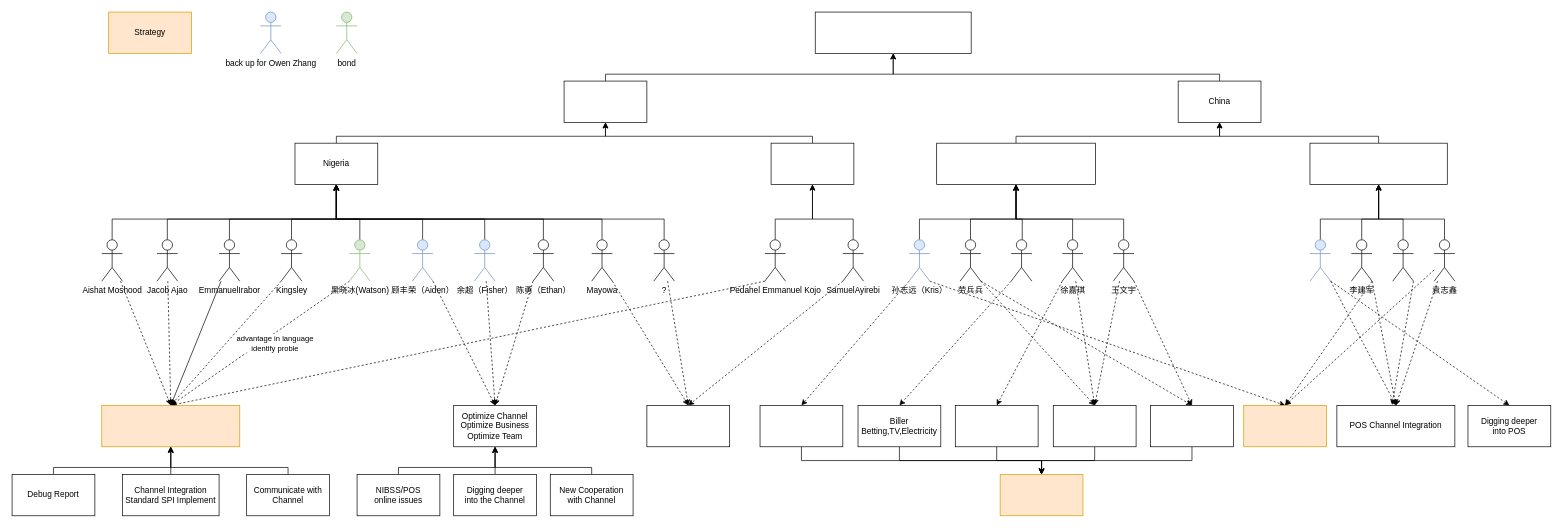
Some shapes in this 1563 by 528 pixel diagram are drawn without their labels. The box of each missing label's shape, as (x1, y1, x2, y2) in pixels:
Afric: (563, 80, 647, 122)
B-Side Channel R&D Team: (1309, 142, 1447, 185)
Biller AirTime，DataBundle: (955, 405, 1038, 447)
C-Side Channel R&D Team: (936, 142, 1095, 185)
Channel Gateway Localization: (101, 405, 240, 447)
Ghana: (770, 142, 854, 185)
Message: (1150, 405, 1233, 447)
Multi Country Business: (759, 405, 843, 447)
Network Operation: (646, 405, 730, 447)
Payment: (1053, 405, 1136, 447)
Payment Network R&D Team: (815, 11, 971, 53)
Paynet Switch Center: (1243, 405, 1327, 447)
Standard API/SPI Implement: (999, 474, 1083, 516)
孙进: (1392, 239, 1413, 281)
汪旭: (1011, 239, 1032, 281)
胡佳伟: (1309, 239, 1331, 281)
